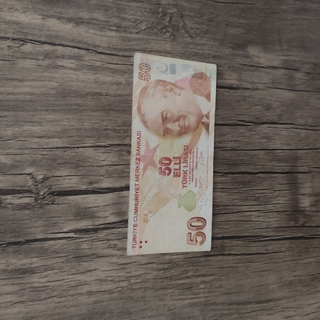50TLFront: (126, 51, 217, 255)
